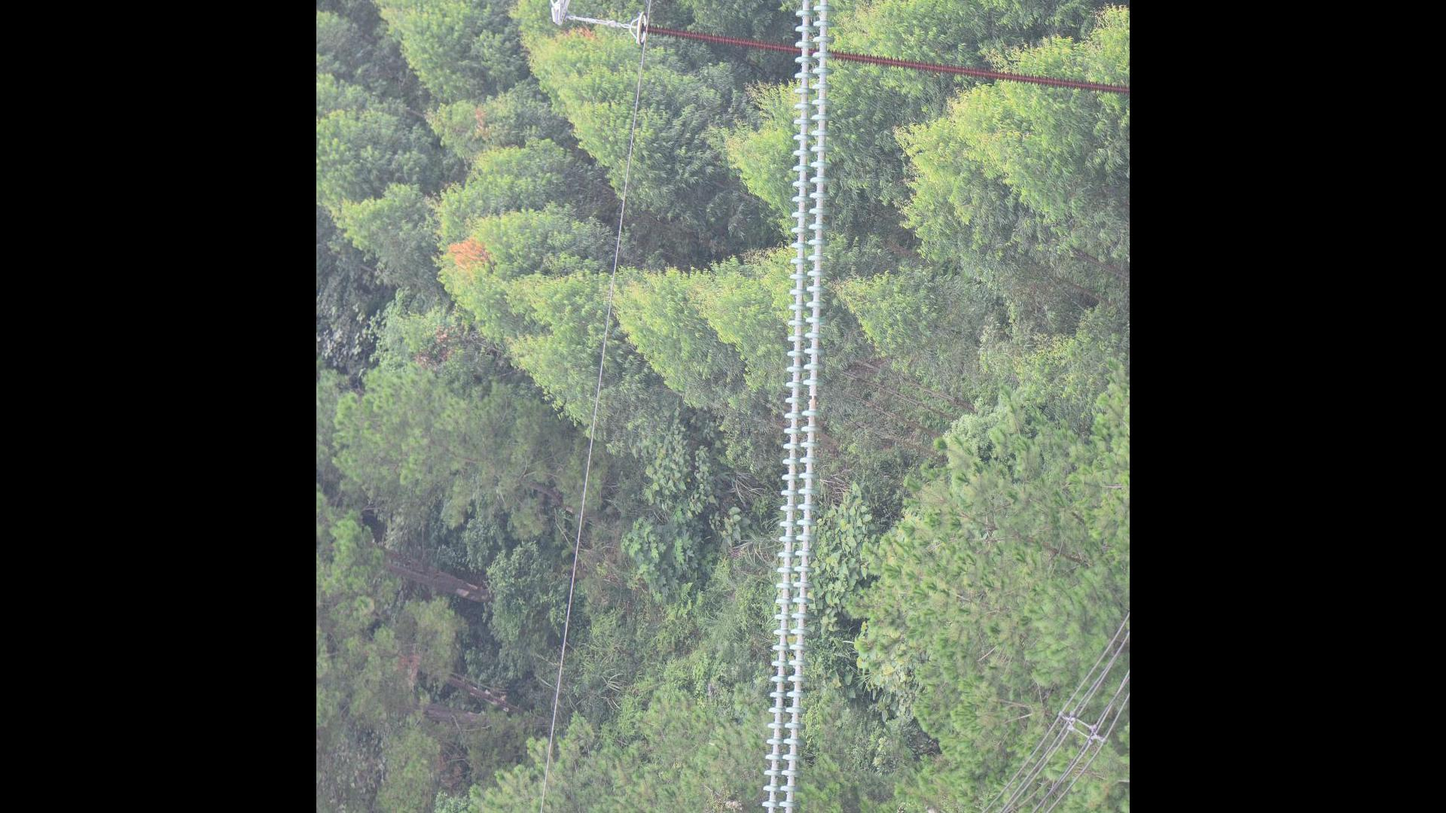insulator: (753, 1, 839, 813), (646, 21, 1130, 101)
insulator_stringdrop: (799, 376, 825, 420)
